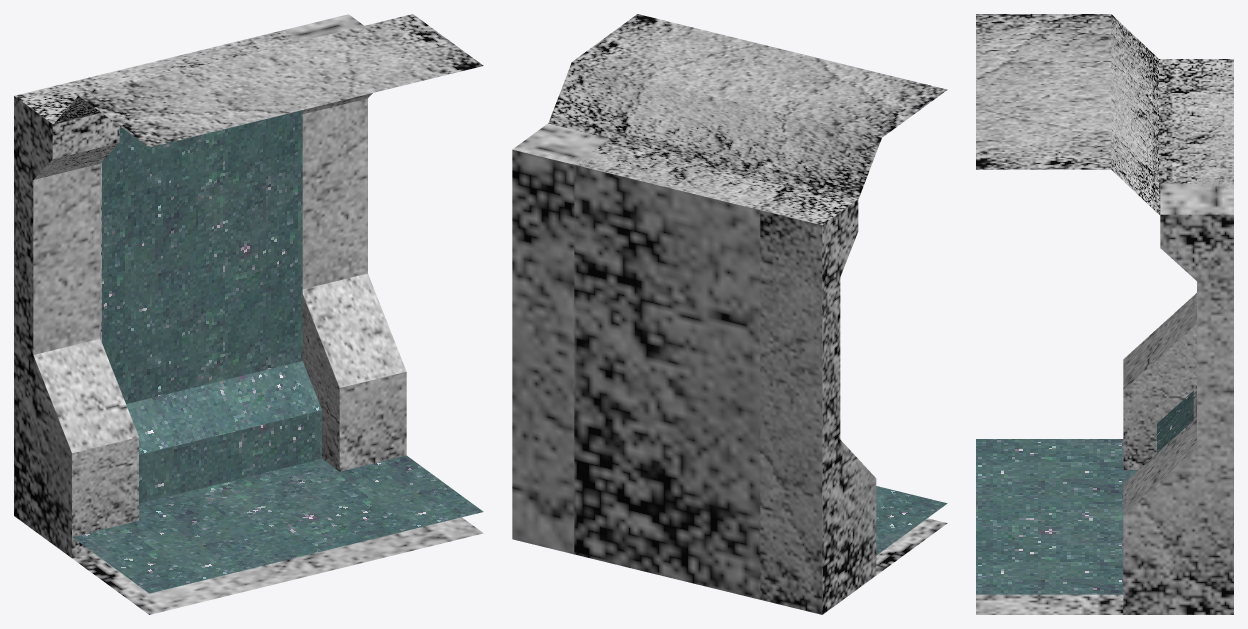
File: SewerStage.fbx
3 renders of one model, left to right at view 1: azimuth 30°, elevation 25°; view 2: azimuth 150°, elevation 25°; view 3: azimuth 270°, elevation 25°, orthographic. The views are drawn at different scales.
Visible parts, largest first — view 1: Walls0, FloorWater0; view 2: Walls0, FloorWater0; view 3: Walls0, FloorWater0.
Part boxes in pixels (<box>): Walls0: <box>14,14,483,614</box>; FloorWater0: <box>72,110,483,593</box>; Walls0: <box>512,14,947,614</box>; FloorWater0: <box>876,486,947,555</box>; Walls0: <box>976,14,1233,614</box>; FloorWater0: <box>976,391,1193,594</box>.
Bounding box in the file's own units: 1000 × 1335 × 700.
